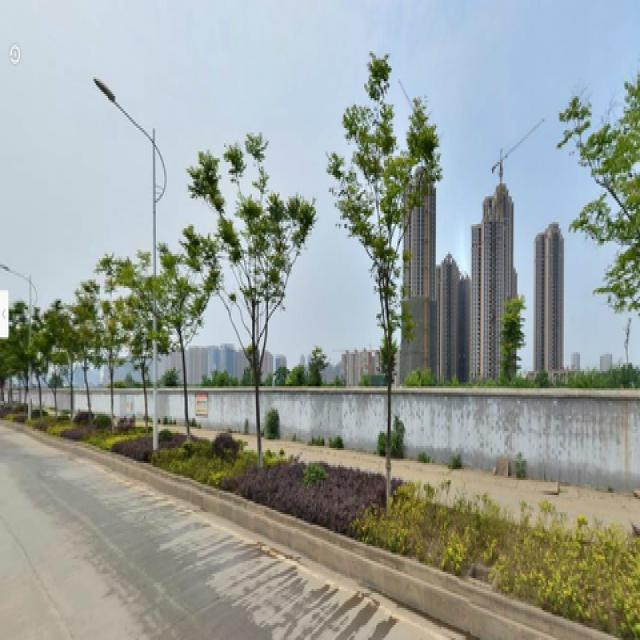koel: (199, 134, 320, 463)
